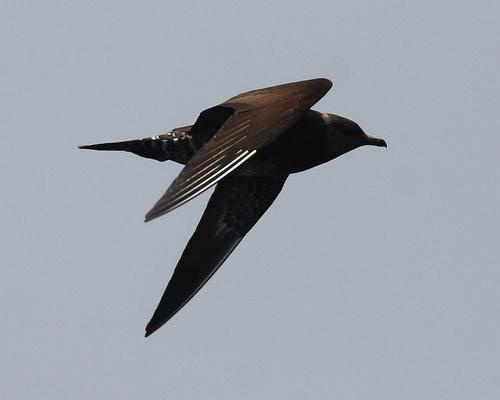bird: (74, 77, 391, 334)
